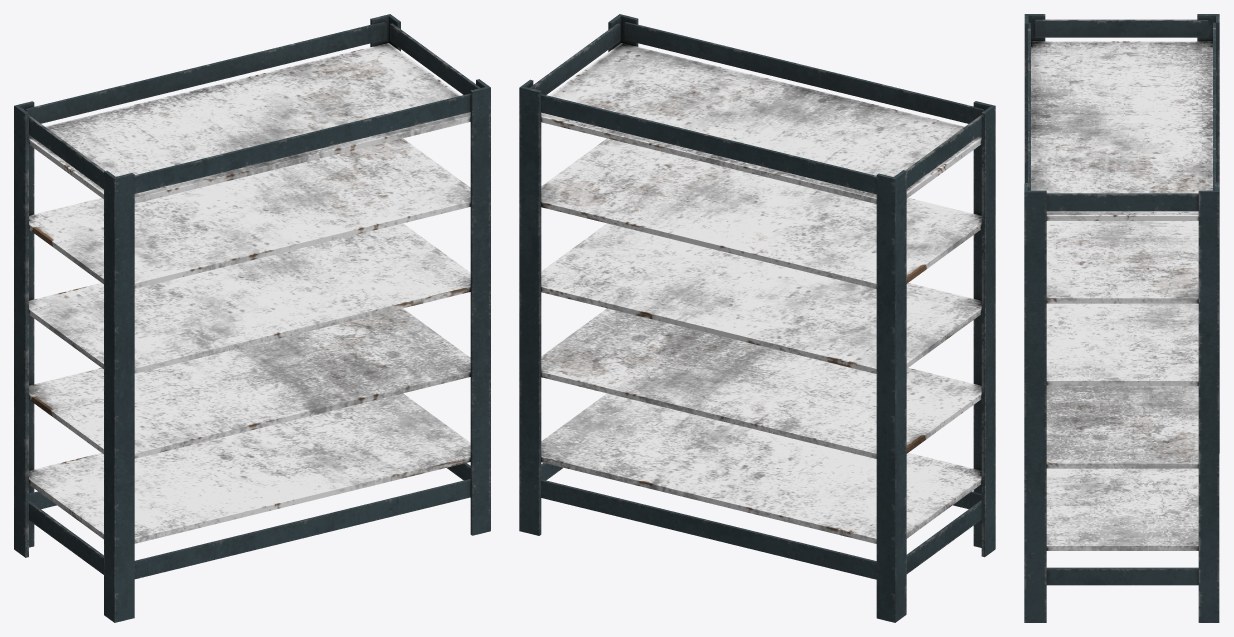
The model's file is Bigshelf_AA.fbx.
3 renders of one model, left to right at view 1: azimuth 30°, elevation 25°; view 2: azimuth 150°, elevation 25°; view 3: azimuth 270°, elevation 25°, orthographic. The views are drawn at different scales.
Visible parts, largest first — view 1: Bigshelf_AA; view 2: Bigshelf_AA; view 3: Bigshelf_AA.
Part boxes in pixels (<box>): Bigshelf_AA: <box>14,14,490,622</box>; Bigshelf_AA: <box>519,14,995,622</box>; Bigshelf_AA: <box>1024,14,1219,622</box>.
Bounding box in the file's own units: 2.39 × 1.1 × 2.69.
Materials: 1 (1 with a texture image).
